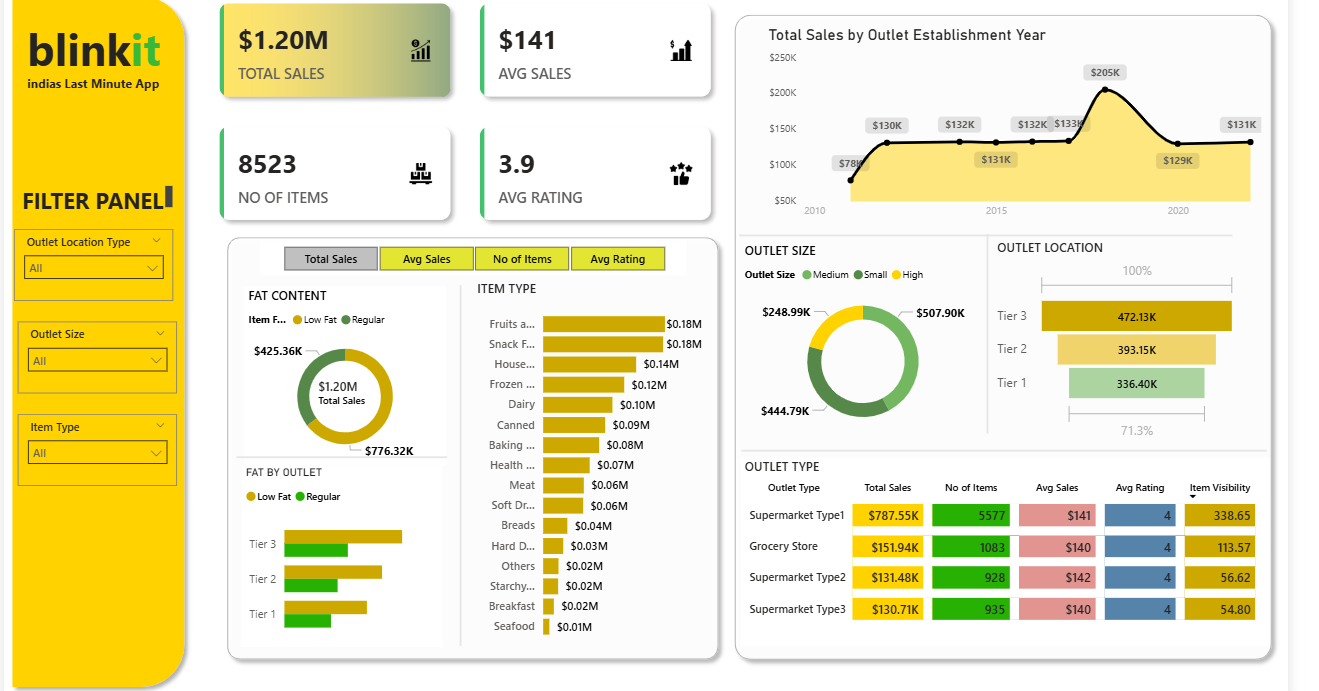

The dashboard page shown, as its layout file describes it:
{"tool":"powerbi","page":{"name":"Page 1","canvas":[1400,800],"ordinal":0},"visuals":[{"type":"shape","box":[0,15,205.9,771.6],"z":0},{"type":"textbox","box":[253.6,553.8,280.7,117.1],"z":1000},{"type":"textbox","box":[21,105.1,168.1,31.5],"z":2000},{"type":"textbox","box":[21,43.5,163.6,78],"z":3000},{"type":"cardVisual","fields":{"Data":["BlinkIT Grocery Data.Total Sales","BlinkIT Grocery Data.Avg  Sales","BlinkIT Grocery Data.No of Items","BlinkIT Grocery Data.Avg Rating"]},"box":[217.6,15,570.3,270.2],"z":4000},{"type":"shape","box":[234.1,278.3,553.6,478.5],"z":5000},{"type":"donutChart","title":"FAT CONTENT","fields":{"Y":["BlinkIT Grocery Data.Total Sales"],"Category":["BlinkIT Grocery Data.Item Fat Content"]},"box":[261.8,340.8,220.9,195],"z":6000},{"type":"slicer","fields":{"Values":["Metrics.Metrics"]},"box":[279.8,290.1,465.3,38.3],"z":7000},{"type":"cardVisual","fields":{"Data":["BlinkIT Grocery Data.Total Sales"]},"box":[325.4,421.1,85.4,70.7],"z":8000},{"type":"slicer","title":"FAT BY OUTLET","fields":{"Values":["BlinkIT Grocery Data.Outlet Location Type"]},"box":[10.3,278.3,173.7,78],"z":9000},{"type":"shape","box":[253.6,517.8,229.6,18],"z":10000},{"type":"shape","box":[493.8,339.2,9,393.2],"z":11000},{"type":"barChart","title":"ITEM TYPE ","fields":{"Y":["BlinkIT Grocery Data.Total Sales"],"Category":["BlinkIT Grocery Data.Item Type"]},"box":[511.8,334.7,255.1,400.7],"z":12000},{"type":"shape","box":[787.8,35.3,603.7,721.5],"z":13000},{"type":"lineChart","fields":{"Y":["BlinkIT Grocery Data.Total Sales"],"Category":["BlinkIT Grocery Data.Outlet Establishment Year"]},"box":[829,56,547.8,219.4],"z":14000},{"type":"shape","box":[801,275,538,19.4],"z":15000},{"type":"donutChart","title":"OUTLET SIZE","fields":{"Y":["BlinkIT Grocery Data.Total Sales"],"Category":["BlinkIT Grocery Data.Outlet Size"]},"box":[802.5,291.5,268,216.5],"z":16000},{"type":"shape","box":[1067.5,284.2,10.3,217.9],"z":17000},{"type":"funnel","title":"OUTLET LOCATION","fields":{"Y":["Sum(BlinkIT Grocery Data.Sales)"],"Category":["BlinkIT Grocery Data.Outlet Location Type"]},"box":[1077.8,288.6,270.9,223.8],"z":18000},{"type":"shape","box":[804,513.9,572.8,11.8],"z":19000},{"type":"pivotTable","title":"OUTLET TYPE","fields":{"Rows":["BlinkIT Grocery Data.Outlet Type"],"Values":["BlinkIT Grocery Data.Total Sales","BlinkIT Grocery Data.No of Items","BlinkIT Grocery Data.Avg  Sales","BlinkIT Grocery Data.Avg Rating","Sum(BlinkIT Grocery Data.Item Visibility)"]},"box":[802.5,527.1,577.2,204.7],"z":20000},{"type":"clusteredBarChart","title":"FAT BY OUTLET","fields":{"Y":["BlinkIT Grocery Data.Total Sales"],"Category":["BlinkIT Grocery Data.Outlet Location Type"],"Series":["BlinkIT Grocery Data.Item Fat Content"]},"box":[259.2,536,219.4,198.8],"z":21000},{"type":"slicer","title":"FAT BY OUTLET","fields":{"Values":["BlinkIT Grocery Data.Outlet Size"]},"box":[14.7,378.4,173.7,78],"z":22000},{"type":"slicer","title":"FAT BY OUTLET","fields":{"Values":["BlinkIT Grocery Data.Item Type"]},"box":[14.7,480,173.7,78],"z":23000},{"type":"textbox","box":[14.7,226.8,173.7,36.8],"z":24000}]}

Visuals, with their boxes on the page's 1400x800 design canvas (x1, y1, x2, y2). These are canvas units, not pixel positions in the 1319x691 screenshot, which may show the page scaled, cropped or inside an application window:
shape: (0, 15, 206, 787)
textbox: (254, 554, 534, 671)
textbox: (21, 105, 189, 137)
textbox: (21, 44, 185, 122)
cardVisual - BlinkIT Grocery Data.Total Sales x BlinkIT Grocery Data.Avg  Sales: (218, 15, 788, 285)
shape: (234, 278, 788, 757)
"FAT CONTENT" donutChart: (262, 341, 483, 536)
slicer - Metrics.Metrics: (280, 290, 745, 328)
cardVisual - BlinkIT Grocery Data.Total Sales: (325, 421, 411, 492)
"FAT BY OUTLET" slicer: (10, 278, 184, 356)
shape: (254, 518, 483, 536)
shape: (494, 339, 503, 732)
"ITEM TYPE " barChart: (512, 335, 767, 735)
shape: (788, 35, 1392, 757)
lineChart - BlinkIT Grocery Data.Total Sales x BlinkIT Grocery Data.Outlet Establishment Year: (829, 56, 1377, 275)
shape: (801, 275, 1339, 294)
"OUTLET SIZE" donutChart: (802, 292, 1070, 508)
shape: (1068, 284, 1078, 502)
"OUTLET LOCATION" funnel: (1078, 289, 1349, 512)
shape: (804, 514, 1377, 526)
"OUTLET TYPE" pivotTable: (802, 527, 1380, 732)
"FAT BY OUTLET" clusteredBarChart: (259, 536, 479, 735)
"FAT BY OUTLET" slicer: (15, 378, 188, 456)
"FAT BY OUTLET" slicer: (15, 480, 188, 558)
textbox: (15, 227, 188, 264)
